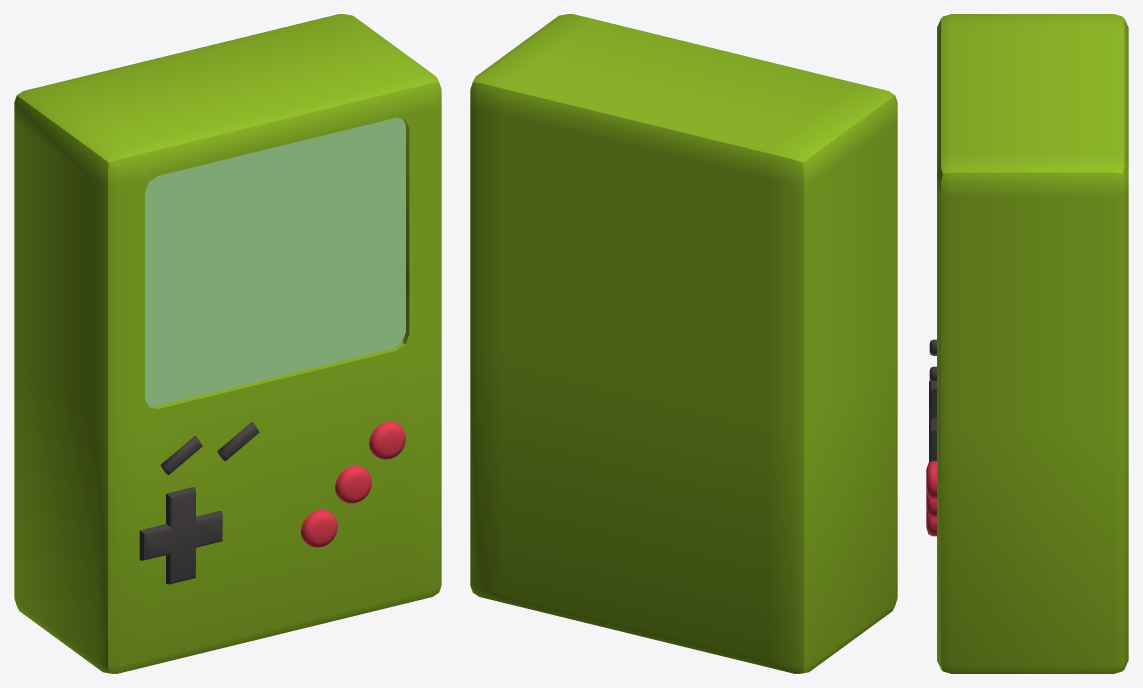
Rendered from portableGamingDevice.fbx.
3 views of the same model, side by side, from view 1: azimuth 30°, elevation 25°; view 2: azimuth 150°, elevation 25°; view 3: azimuth 270°, elevation 25° (orthographic). The views are drawn at different scales.
Parts seen in each view (by area): view 1: Portable Gaming Device; view 2: Portable Gaming Device; view 3: Portable Gaming Device.
Boxes of the visible parts, <box> form: Portable Gaming Device: <box>14,14,441,673</box>; Portable Gaming Device: <box>470,14,897,673</box>; Portable Gaming Device: <box>926,14,1128,673</box>.
Size of the model in its own units: 81.04 by 118 by 42.65.
